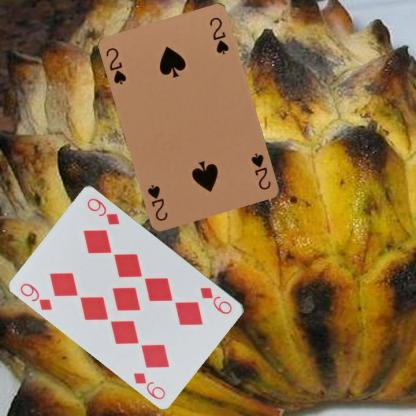2s: (248, 150, 273, 191), (104, 45, 128, 86)
9d: (198, 284, 234, 316), (18, 280, 54, 312)
